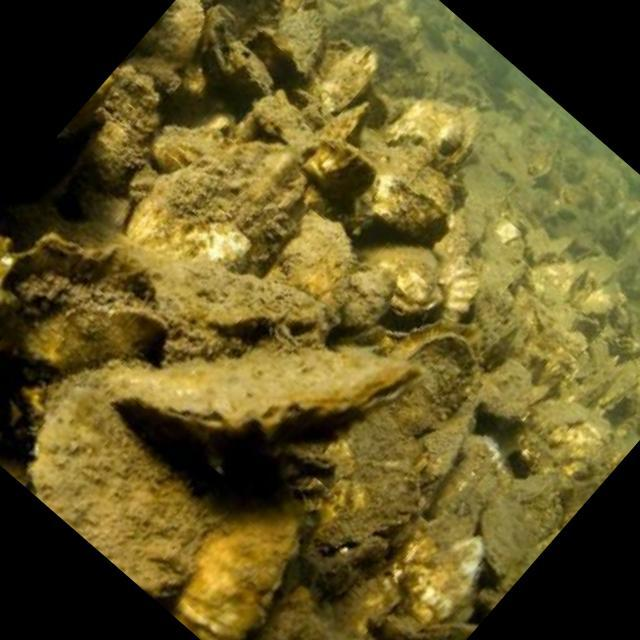Oyster- Indeterminate: (37, 364, 219, 624), (317, 442, 446, 586), (137, 163, 283, 275), (5, 280, 179, 370), (247, 562, 392, 640), (383, 533, 488, 640), (392, 324, 477, 435), (477, 481, 564, 571), (269, 203, 360, 288), (380, 157, 480, 233), (389, 92, 492, 162), (297, 268, 406, 332), (516, 407, 602, 488), (442, 433, 508, 531), (304, 38, 392, 106), (518, 314, 592, 394), (258, 0, 333, 72), (362, 240, 448, 297), (467, 229, 539, 297), (463, 272, 519, 358), (214, 36, 281, 106), (468, 352, 530, 424), (426, 252, 479, 324), (536, 261, 608, 312), (586, 360, 640, 424), (155, 119, 210, 178), (302, 136, 359, 188), (524, 226, 582, 274), (320, 98, 377, 144), (580, 279, 625, 323), (578, 335, 610, 366)
Oyster-Closed: (97, 345, 424, 444), (182, 505, 302, 640), (150, 264, 322, 342), (0, 222, 124, 296), (566, 361, 612, 409)
